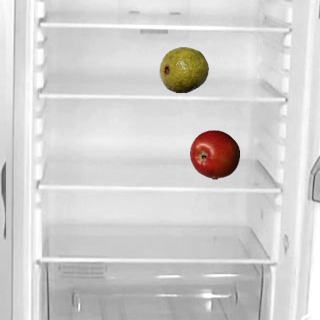Apple Braeburn: (189, 129, 239, 179)
Guava: (158, 44, 208, 94)
